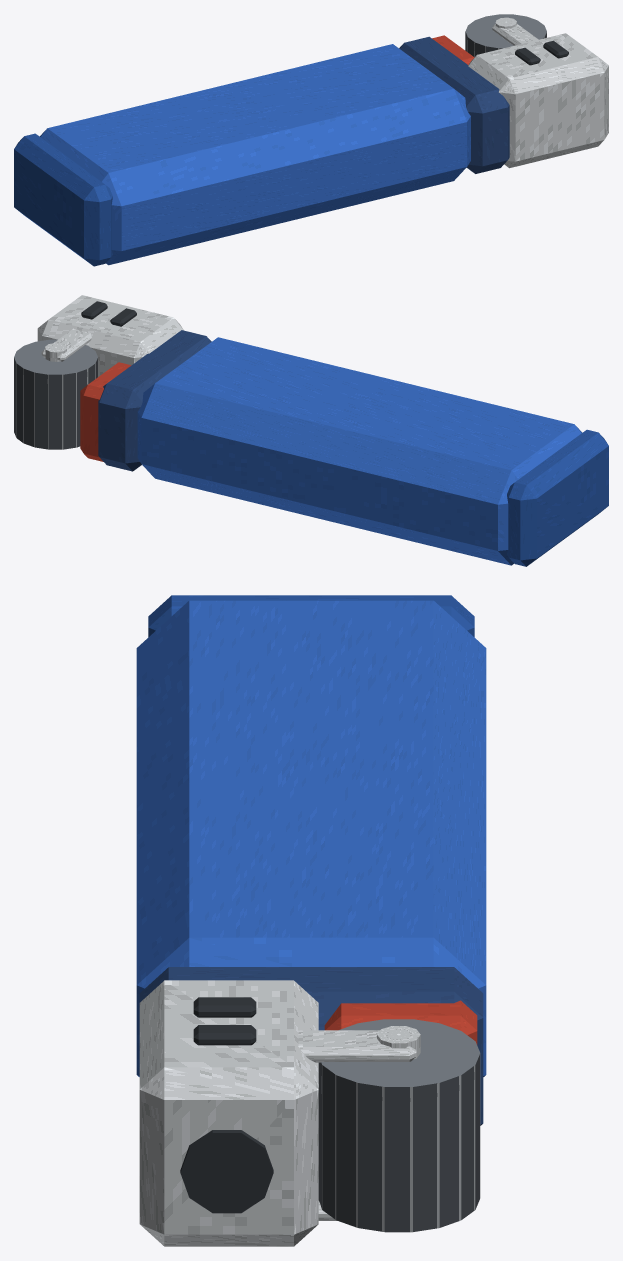
The model's file is lighter.glb.
3 renders of one model, top to bottom at view 1: azimuth 30°, elevation 25°; view 2: azimuth 150°, elevation 25°; view 3: azimuth 270°, elevation 25°, orthographic. The views are drawn at different scales.
Visible parts, largest first — view 1: block_molded blue fuel body, block_aluminum wind guard, block_blue base plug, block_plastic shoulder, block_exposed serrated flint wheel, block_wheel mounting ear, block_red thumb lever; view 2: block_molded blue fuel body, block_blue base plug, block_exposed serrated flint wheel, block_plastic shoulder, block_aluminum wind guard, block_red thumb lever, block_wheel mounting ear; view 3: block_molded blue fuel body, block_aluminum wind guard, block_exposed serrated flint wheel, block_plastic shoulder, block_dark opening in hood, block_red thumb lever, block_wheel mounting ear, block_blue base plug, block_dark vent slot (×2), block_wheel axle end caps.
Part boxes in pixels (box(x1,y1,x2,y2)): block_molded blue fuel body: box(40, 44, 470, 265); block_aluminum wind guard: box(468, 33, 608, 168); block_blue base plug: box(14, 133, 112, 266); block_plastic shoulder: box(399, 36, 509, 173); block_exposed serrated flint wheel: box(465, 14, 546, 57); block_wheel mounting ear: box(492, 24, 538, 45); block_red thumb lever: box(432, 35, 474, 64); block_molded blue fuel body: box(137, 337, 582, 565); block_blue base plug: box(507, 429, 608, 566); block_exposed serrated flint wheel: box(14, 339, 97, 449); block_plastic shoulder: box(98, 330, 211, 471); block_aluminum wind guard: box(37, 295, 183, 376); block_red thumb lever: box(80, 362, 131, 461); block_wheel mounting ear: box(41, 328, 91, 361); block_molded blue fuel body: box(136, 600, 486, 1076); block_aluminum wind guard: box(139, 980, 318, 1246); block_exposed serrated flint wheel: box(318, 1019, 480, 1232); block_plastic shoulder: box(139, 967, 483, 1125); block_dark opening in hood: box(180, 1130, 273, 1213); block_red thumb lever: box(324, 1000, 477, 1044); block_wheel mounting ear: box(298, 1030, 416, 1062); block_blue base plug: box(148, 595, 474, 636); block_dark vent slot (×2): box(193, 997, 256, 1045); block_wheel axle end caps: box(377, 1026, 420, 1058).
Size of the model in its own units: 0.0835 by 0.0153 by 0.024.
Materials: 2 (2 with a texture image).
